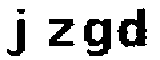d: (119, 4, 149, 50)
g: (82, 15, 113, 58)
j: (4, 5, 30, 56)
z: (44, 14, 78, 51)
